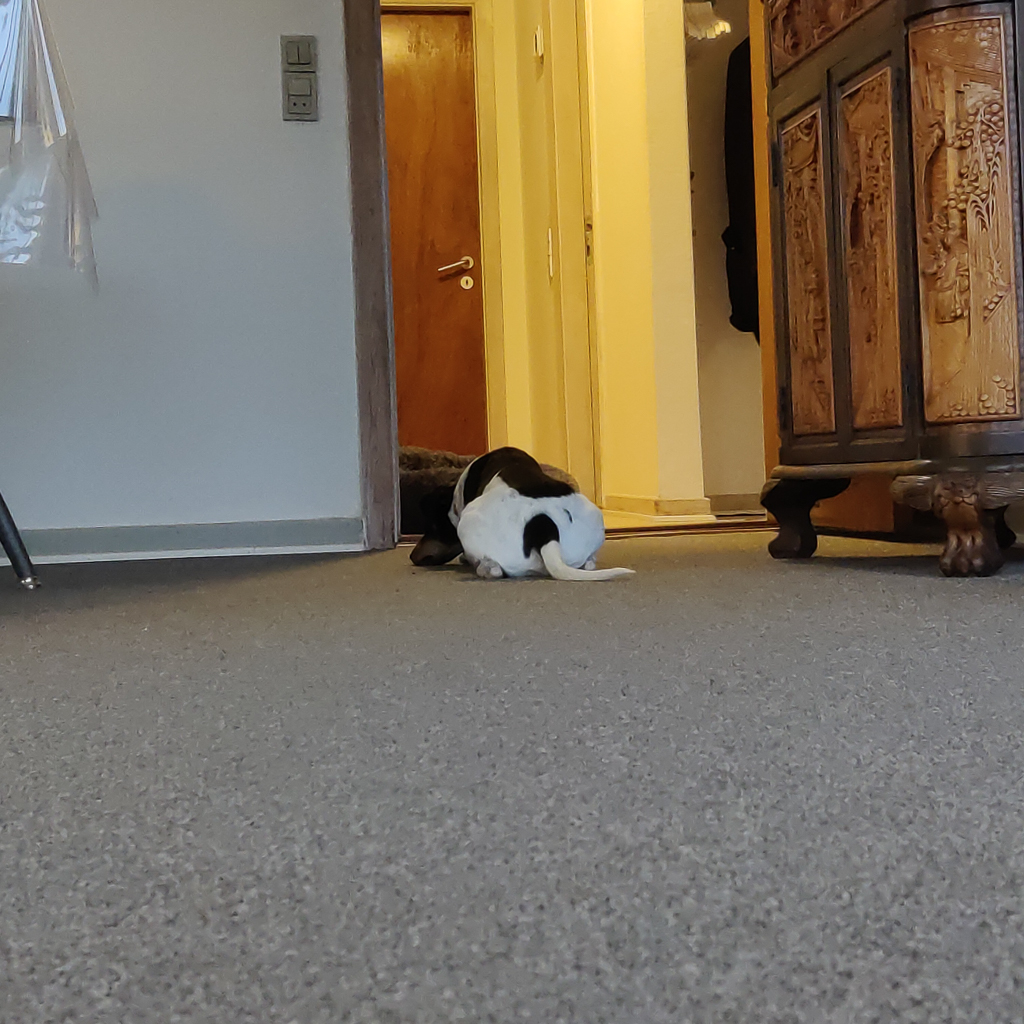Dog: (396, 438, 660, 603)
